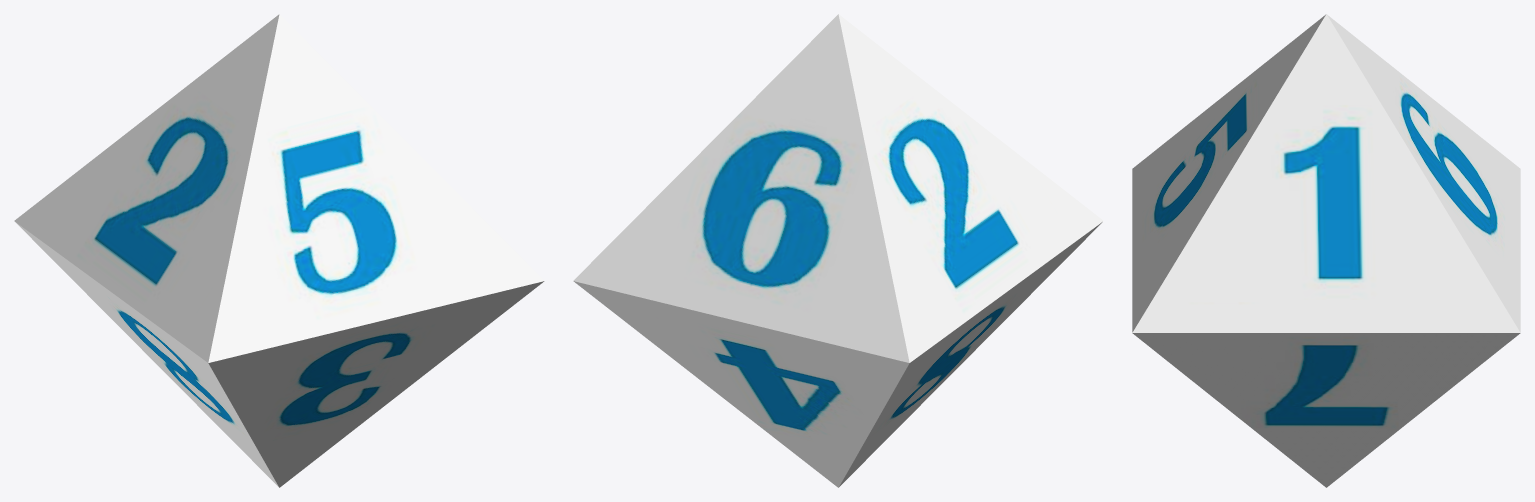
File: dado_8.obj
3 renders of one model, left to right at view 1: azimuth 30°, elevation 25°; view 2: azimuth 150°, elevation 25°; view 3: azimuth 270°, elevation 25°, orthographic.
Visible parts, largest first — view 1: Pyramid001; view 2: Pyramid001; view 3: Pyramid001.
Part boxes in pixels (bbox=[...]): Pyramid001: bbox=[14, 14, 544, 487]; Pyramid001: bbox=[573, 14, 1103, 487]; Pyramid001: bbox=[1132, 14, 1520, 487].
Bounding box in the file's own units: 1.04 × 1.4 × 1.04.
